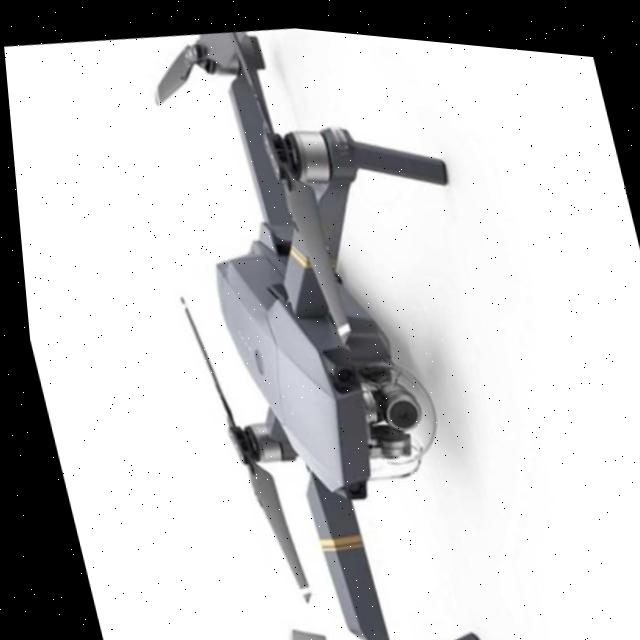drones: (76, 6, 585, 640)
